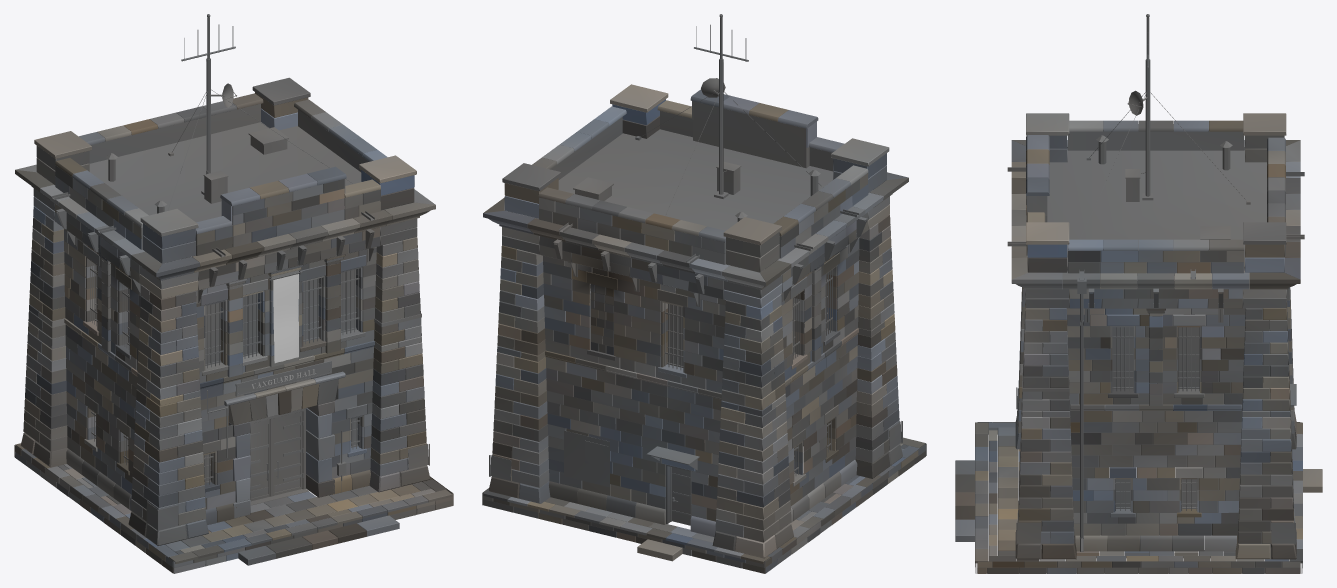
File: VanguardHall_LOD1.glb
The picture shows the model from 3 angles, left to right: view 1: azimuth 30°, elevation 25°; view 2: azimuth 150°, elevation 25°; view 3: azimuth 270°, elevation 25°; orthographic projection. The views are drawn at different scales.
Parts seen in each view (by area): view 1: VH_Masonry_LOD1, VH_Trim_LOD1, VH_Podium_LOD1, VH_Roof_LOD1, VH_Metal_LOD1, VH_Glass_LOD1, VH_Banner_LOD1; view 2: VH_Masonry_LOD1, VH_Trim_LOD1, VH_Roof_LOD1, VH_Podium_LOD1, VH_Metal_LOD1, VH_Glass_LOD1; view 3: VH_Masonry_LOD1, VH_Trim_LOD1, VH_Roof_LOD1, VH_Podium_LOD1, VH_Metal_LOD1, VH_Glass_LOD1.
Boxes of the visible parts, x1,y1,x2,y2 form: VH_Masonry_LOD1: (20,77,430,546); VH_Trim_LOD1: (15,93,435,524); VH_Podium_LOD1: (14,443,453,573); VH_Roof_LOD1: (89,14,361,222); VH_Metal_LOD1: (52,192,429,531); VH_Glass_LOD1: (95,252,357,481); VH_Banner_LOD1: (273,274,298,363); VH_Masonry_LOD1: (489,84,902,558); VH_Trim_LOD1: (483,89,908,536); VH_Roof_LOD1: (558,14,833,230); VH_Podium_LOD1: (482,437,926,573); VH_Metal_LOD1: (489,209,902,525); VH_Glass_LOD1: (668,259,827,366); VH_Masonry_LOD1: (1015,113,1296,559); VH_Trim_LOD1: (1011,120,1300,551); VH_Roof_LOD1: (1047,14,1266,268); VH_Podium_LOD1: (955,422,1322,573); VH_Metal_LOD1: (1007,167,1304,551); VH_Glass_LOD1: (1112,327,1199,507).
Size of the model in its own units: 12.45 by 19.23 by 13.34.
